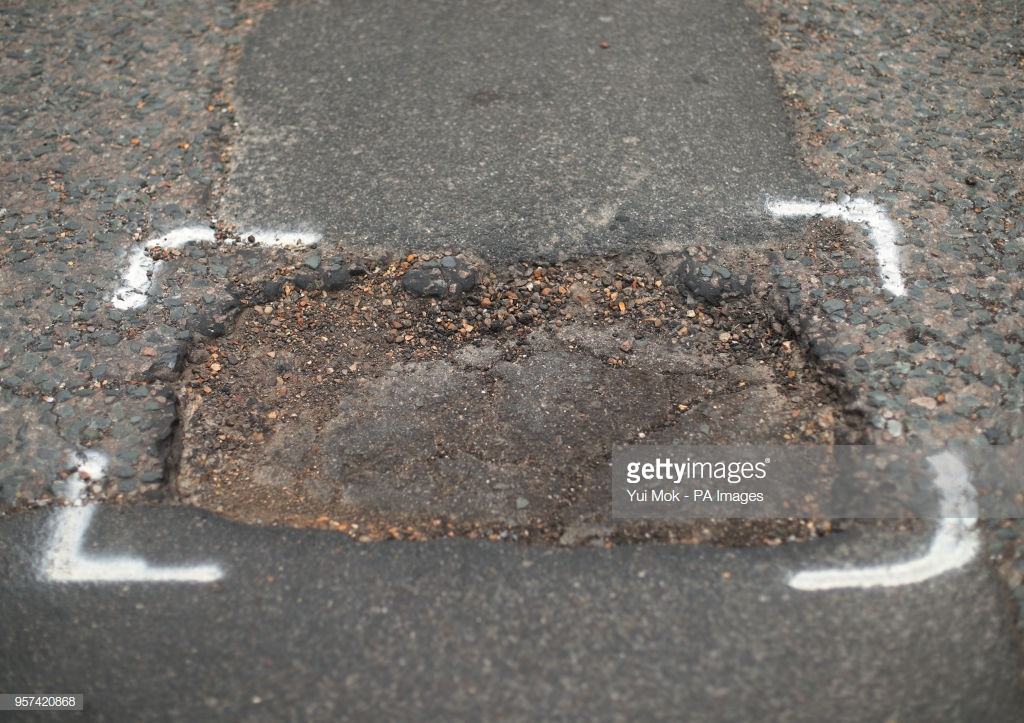pothole: (135, 236, 961, 566)
